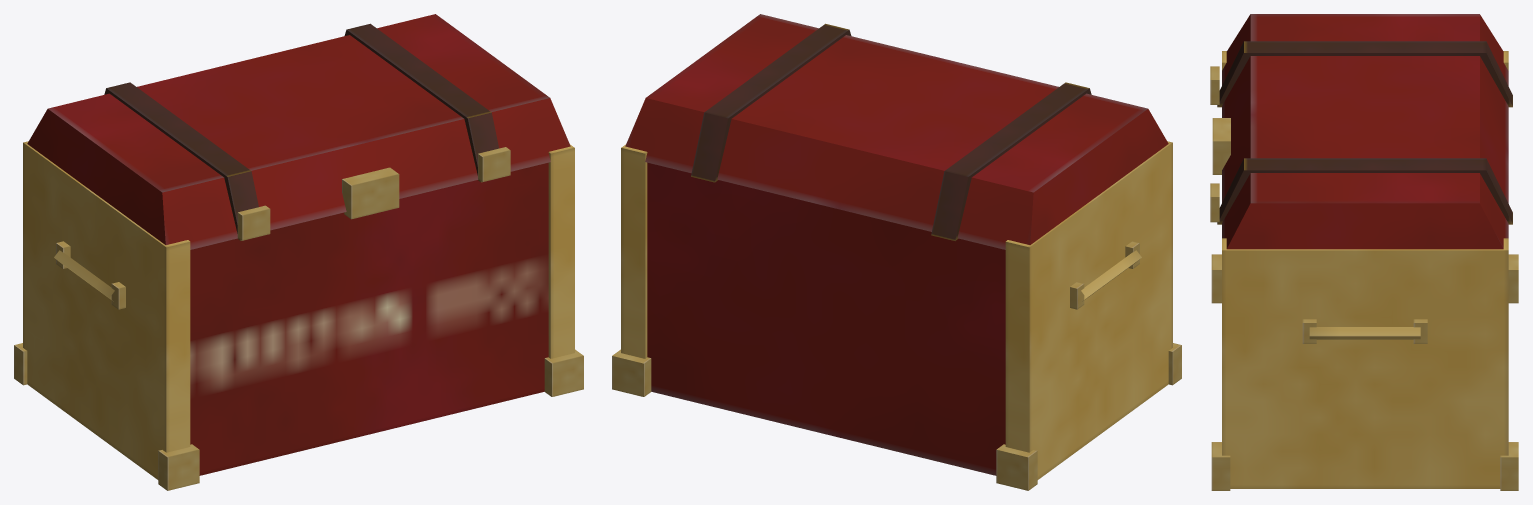
File: clown_trunk.obj
3 renders of one model, left to right at view 1: azimuth 30°, elevation 25°; view 2: azimuth 150°, elevation 25°; view 3: azimuth 270°, elevation 25°, orthographic.
Parts seen in each view (by area): view 1: clown_trunk, clown_trunk_lid; view 2: clown_trunk, clown_trunk_lid; view 3: clown_trunk, clown_trunk_lid.
Boxes of the visible parts, box(x1,y1,x2,y2) form: clown_trunk: box(14, 141, 583, 490); clown_trunk_lid: box(27, 14, 570, 249); clown_trunk: box(612, 141, 1181, 490); clown_trunk_lid: box(625, 14, 1168, 249); clown_trunk: box(1211, 51, 1518, 490); clown_trunk_lid: box(1210, 14, 1512, 249).
Size of the model in its own units: 1.09 by 0.677 by 0.667.
Materials: 1 (1 with a texture image).
